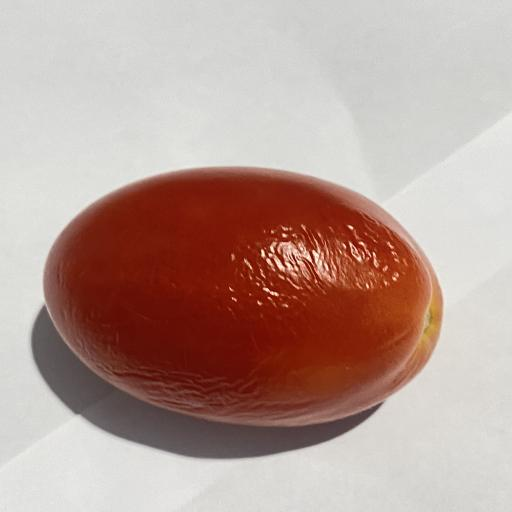spoiled: (44, 168, 441, 426)
